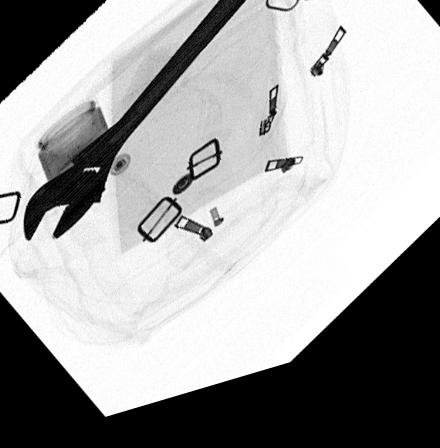Wrench: (22, 0, 259, 245)
